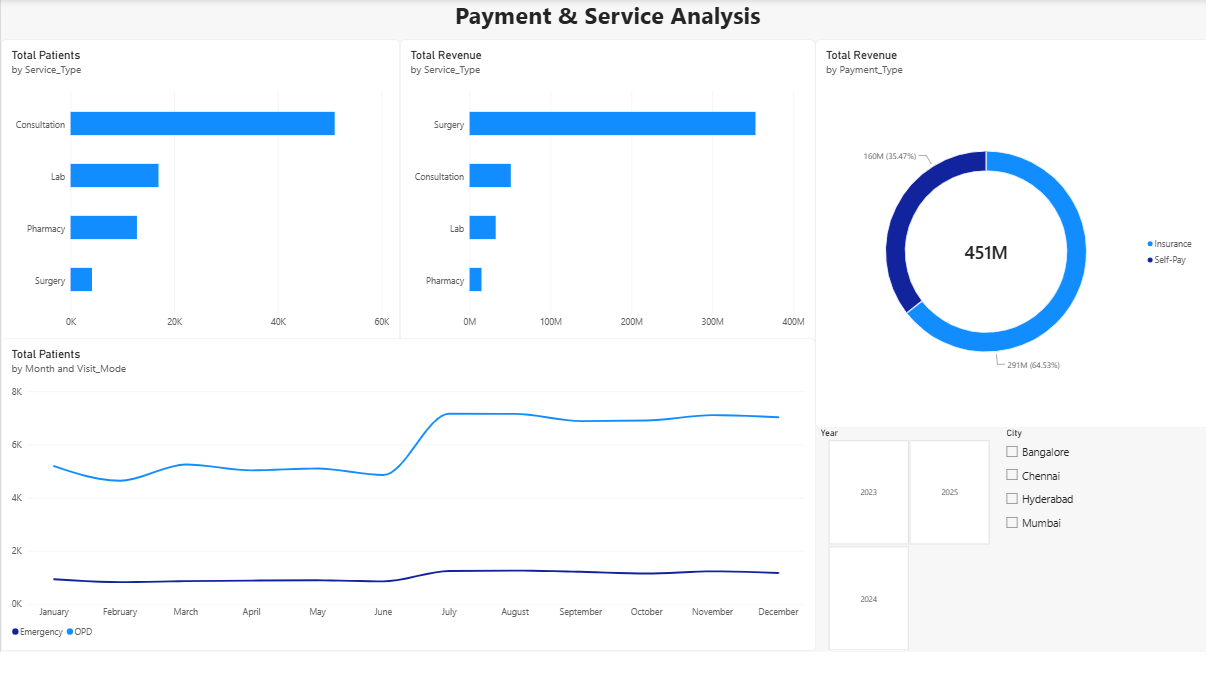

This screenshot's page, from the dashboard's own definition file:
{"tool":"powerbi","page":{"name":"Page 3","canvas":[1920,1080],"ordinal":2},"visuals":[{"type":"textbox","box":[9.5,0,1911.1,64.4],"z":0},{"type":"donutChart","fields":{"Category":["Dim_Payment.Payment_Type"],"Y":["Measure_Table.Total Revenue"]},"box":[1295.6,64.4,625.1,618],"z":1},{"type":"clusteredBarChart","fields":{"Category":["Dim_Service.Service_Type"],"Y":["Measure_Table.Total Revenue"]},"box":[634.7,64.4,660.9,482],"z":2},{"type":"clusteredBarChart","fields":{"Category":["Dim_Service.Service_Type"],"Y":["Measure_Table.Total Patients"]},"box":[0,64.4,634.7,482],"z":3},{"type":"lineChart","fields":{"Category":["Dim_Date.Month"],"Series":["Fact_Visits.Visit_Mode"],"Y":["Measure_Table.Total Patients"]},"box":[0,539.2,1295.6,498.7],"z":4},{"type":"slicer","fields":{"Values":["Dim_Date.Year"]},"box":[1295.6,682.4,295.9,355.5],"z":5},{"type":"slicer","fields":{"Values":["Dim_City.City"]},"box":[1591.4,682.4,326.9,398.4],"z":6}]}

Visuals, with their boxes in screenshot pixels (x1, y1, x2, y2), scaled from the page's 1920x1080 canvas onto the 1216x699 screenshot:
textbox: rect(6, 0, 1215, 42)
donutChart - Dim_Payment.Payment_Type x Measure_Table.Total Revenue: rect(821, 42, 1215, 442)
clusteredBarChart - Dim_Service.Service_Type x Measure_Table.Total Revenue: rect(402, 42, 821, 354)
clusteredBarChart - Dim_Service.Service_Type x Measure_Table.Total Patients: rect(0, 42, 402, 354)
lineChart - Dim_Date.Month x Fact_Visits.Visit_Mode: rect(0, 349, 821, 672)
slicer - Dim_Date.Year: rect(821, 442, 1008, 672)
slicer - Dim_City.City: rect(1008, 442, 1215, 698)
